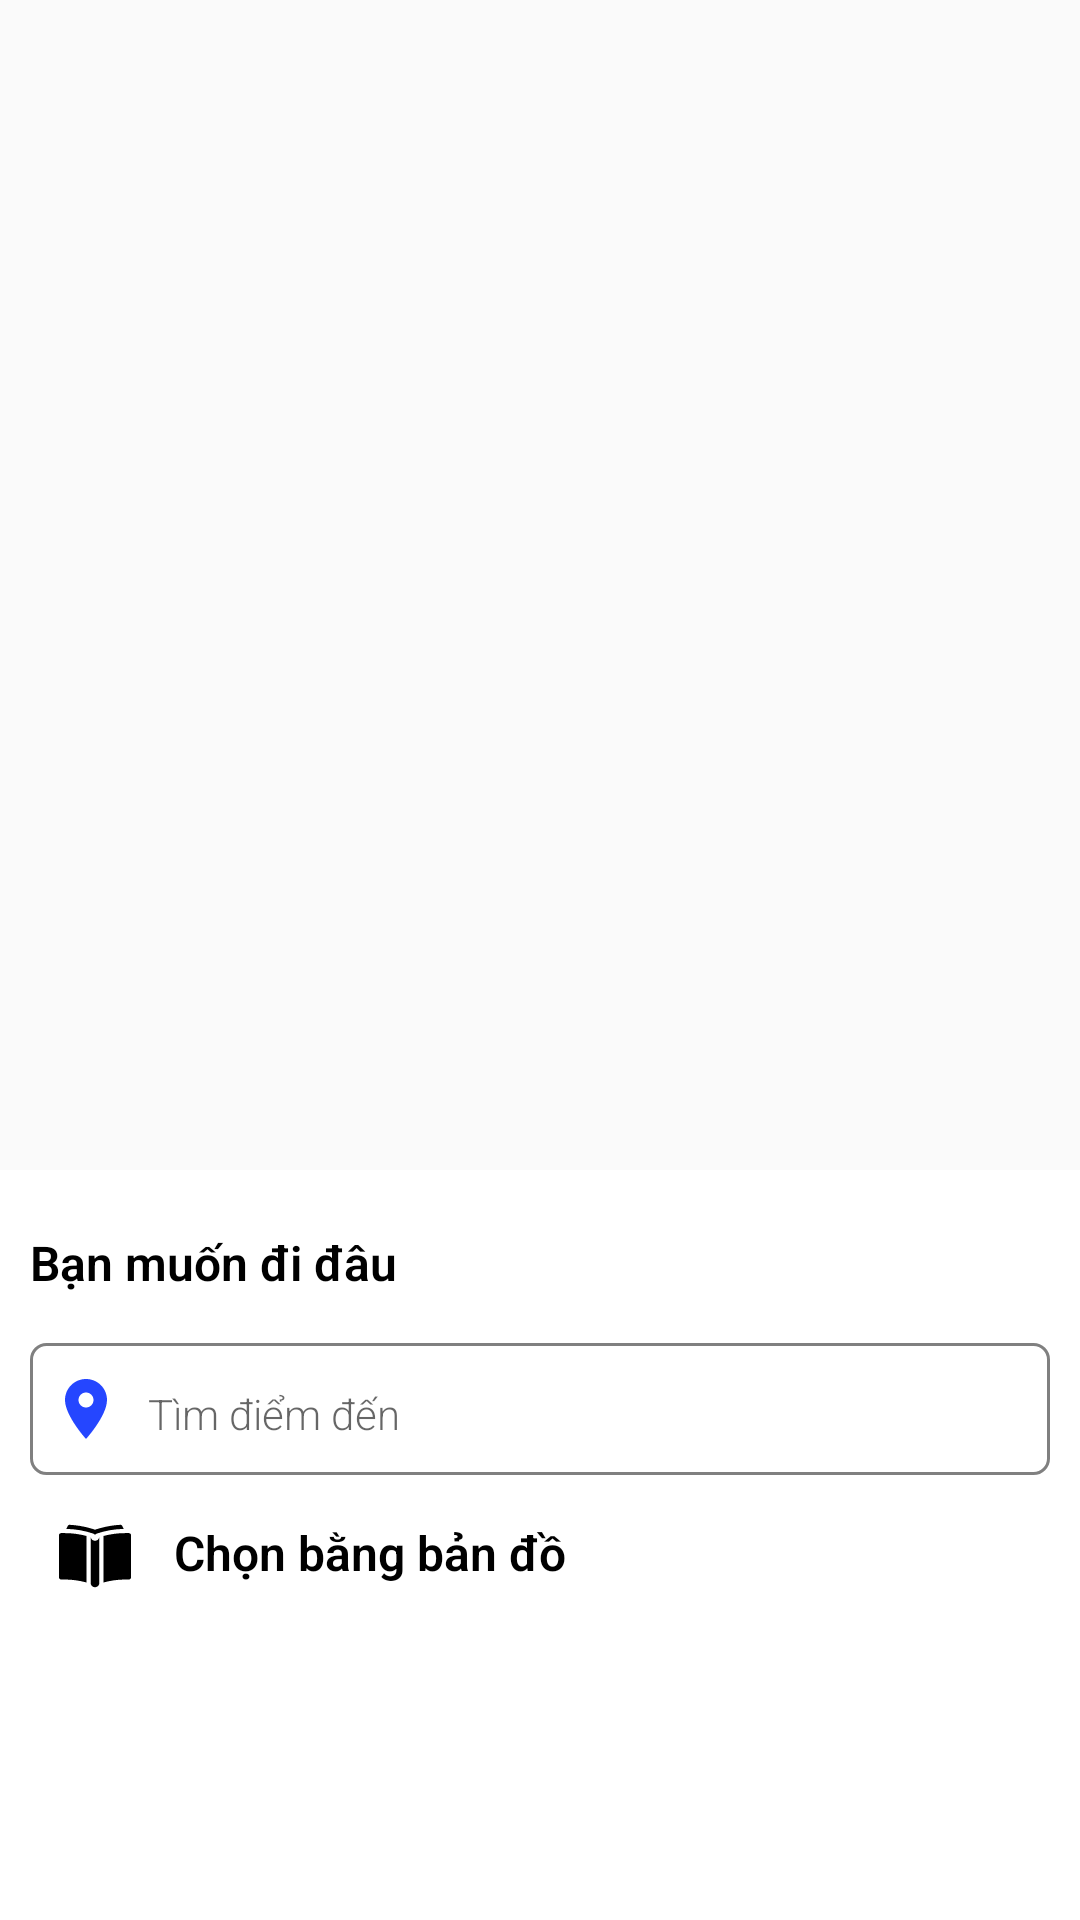

Icon click points for this 1080w x 1920h phone screenshot, format (x,y):
location on: (86,1409)
